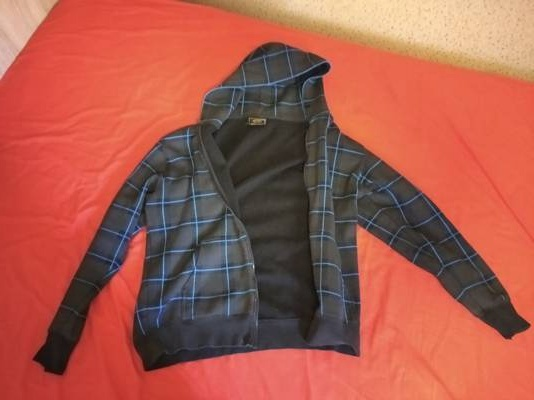Hoodie: (30, 43, 523, 392)
